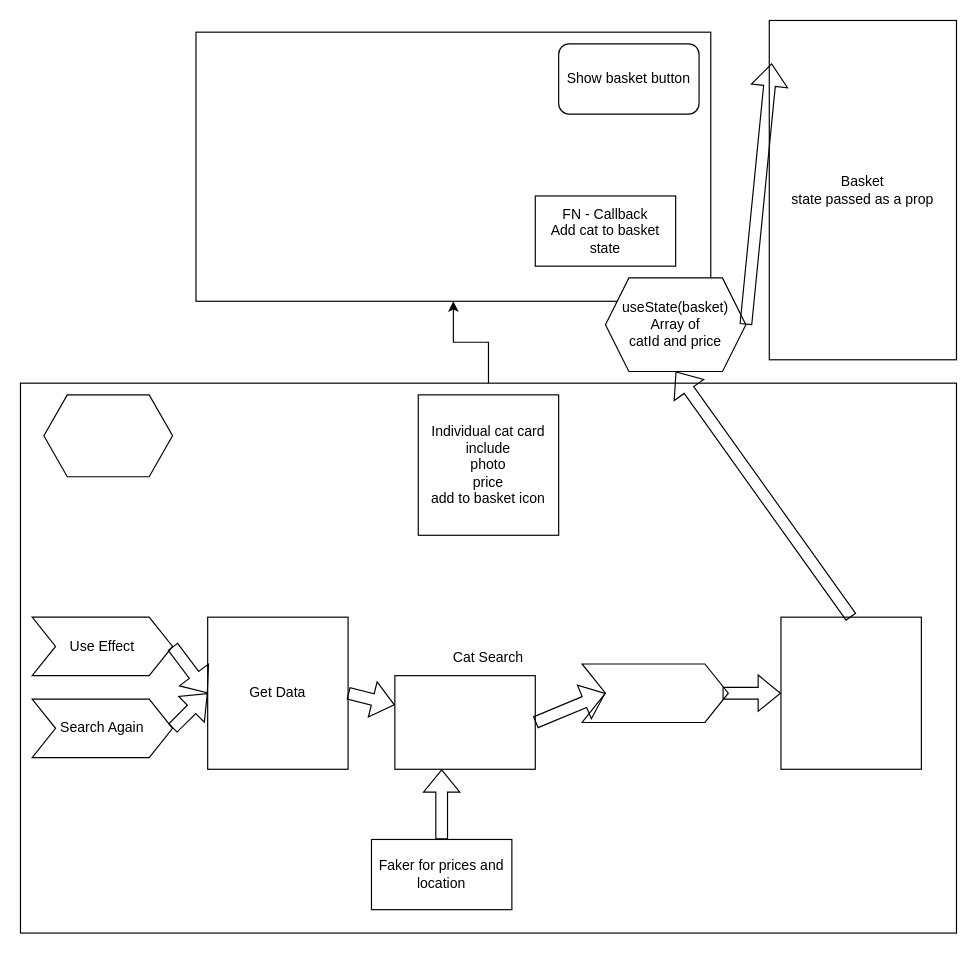
This 977x954 diagram has some shape labels left out. The box of each missing label's shape, as (x1, y1, x2, y2) in pixels:
Add to Basket: (780, 616, 921, 769)
App: (195, 31, 711, 301)
Click cat use callBack: (581, 663, 728, 722)
Display Data: (394, 675, 535, 769)
UseState for cat data: (43, 394, 173, 477)
